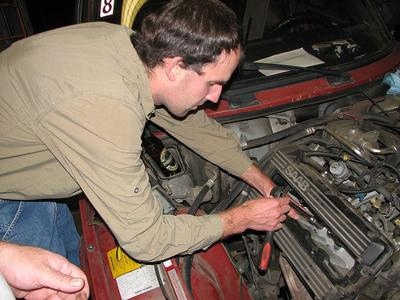person: (1, 2, 301, 300)
